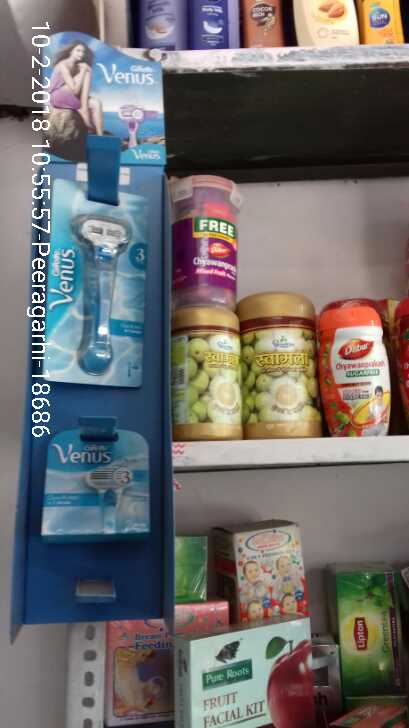venus: (42, 175, 153, 381), (36, 420, 152, 537)
